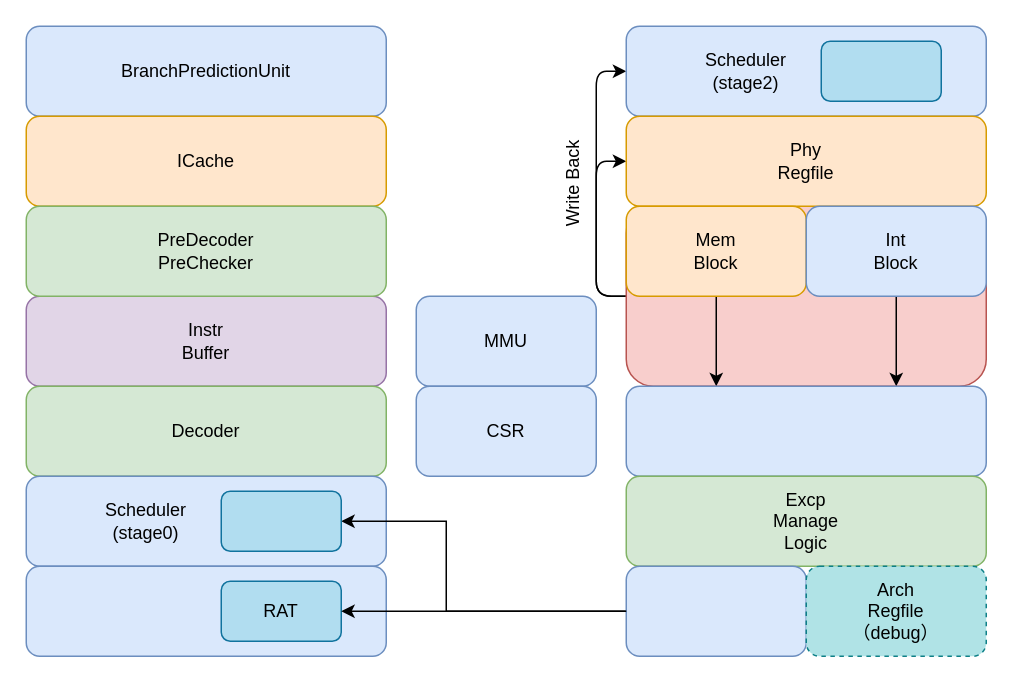
The diagram is 1013 pixels wide and 683 high, and some of its shapes have lost their labels. Here are the shapes that lost their labels. From the top down, the box of each, then its label:
(820, 40, 941, 101): RS
(625, 205, 986, 386): EXE
(625, 385, 986, 476): ROB
(220, 490, 341, 551): Freelist
(25, 565, 386, 656): Scheduler (stage1)
(625, 565, 806, 656): Arch RAT Freelist
